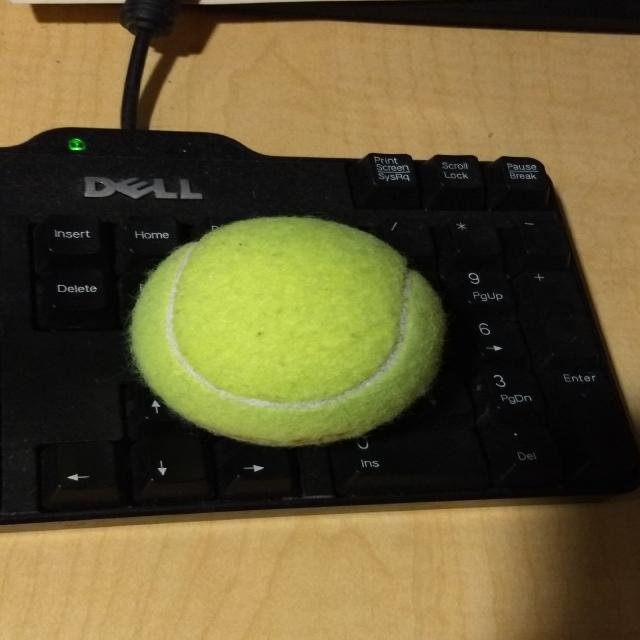Tennis-Ball: (61, 208, 497, 533)
